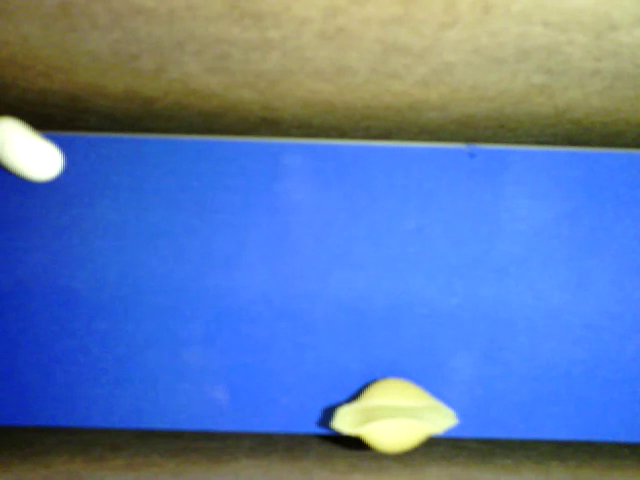shell: (330, 374, 460, 456)
